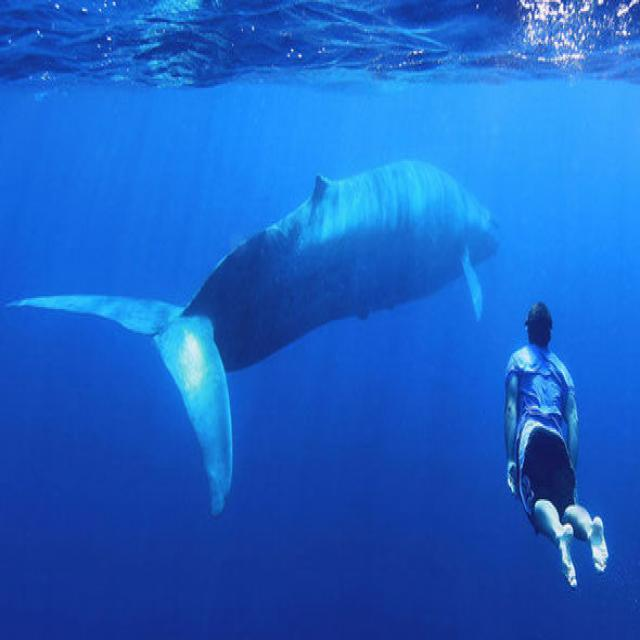blue_whale: (18, 119, 502, 534)
